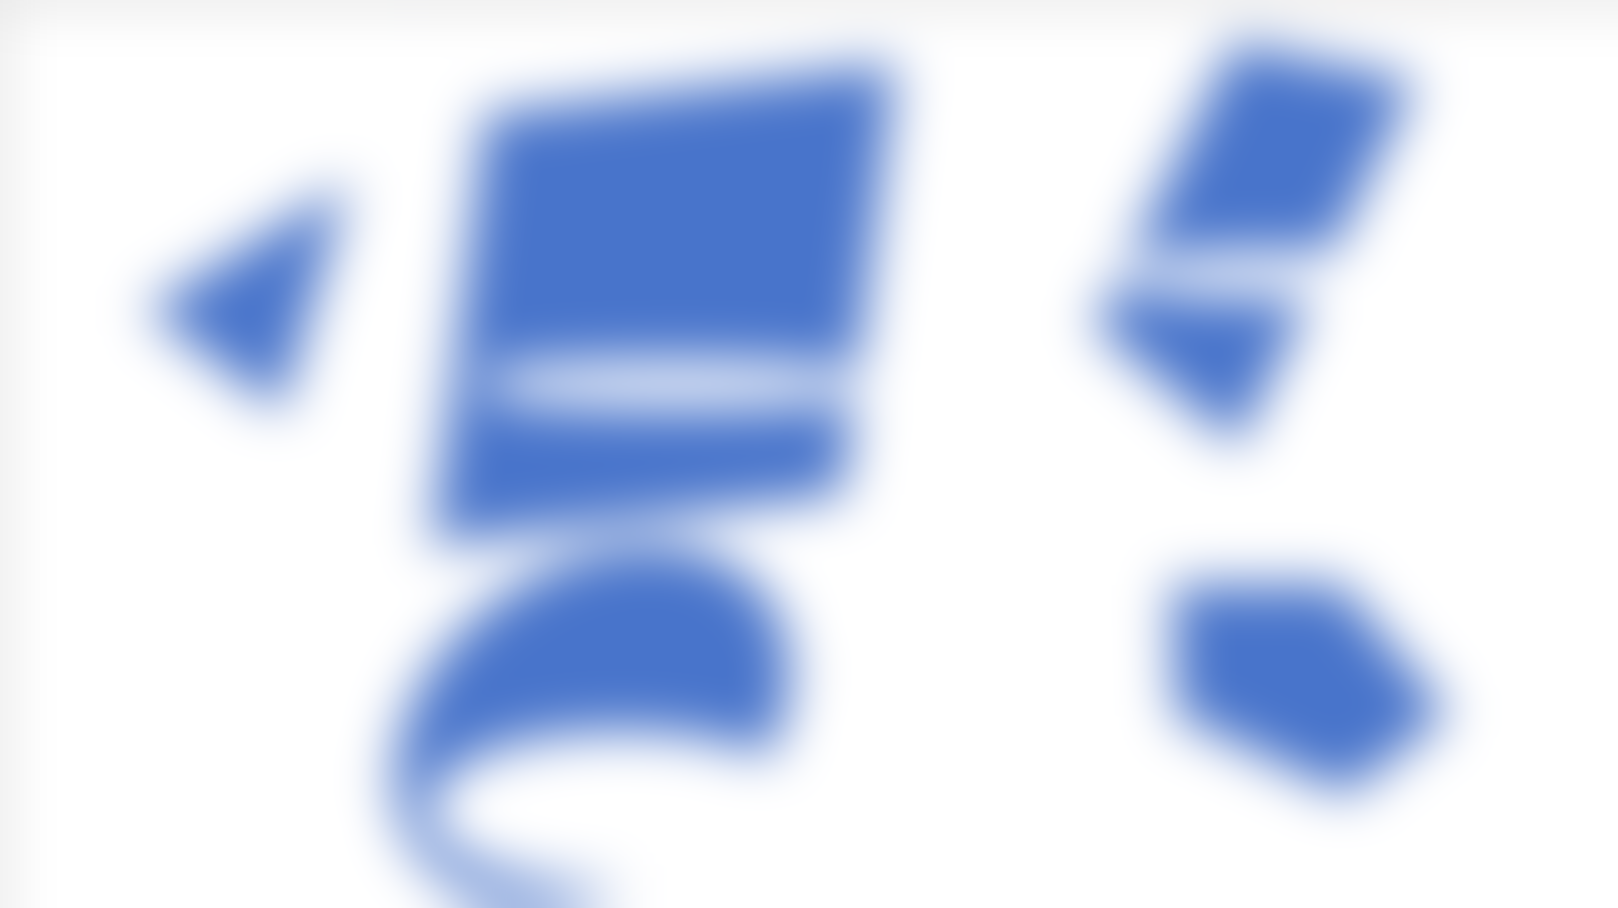circle: (338, 547, 858, 908)
parallelogram: (404, 57, 946, 538)
pentagon: (1133, 557, 1464, 838)
trapezium: (1068, 4, 1438, 457)
triangle: (154, 188, 368, 411)
